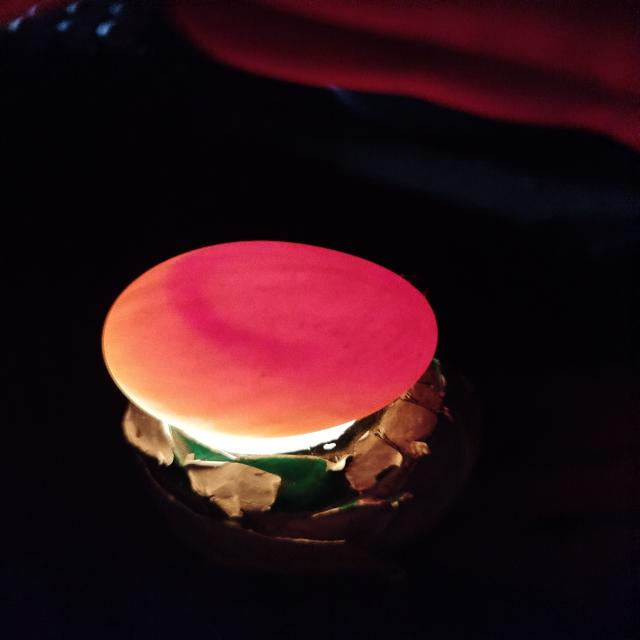Gema Quebrada: (166, 241, 439, 420)
